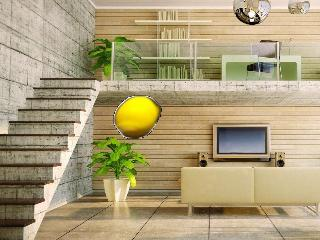lemon: (116, 98, 160, 139)
